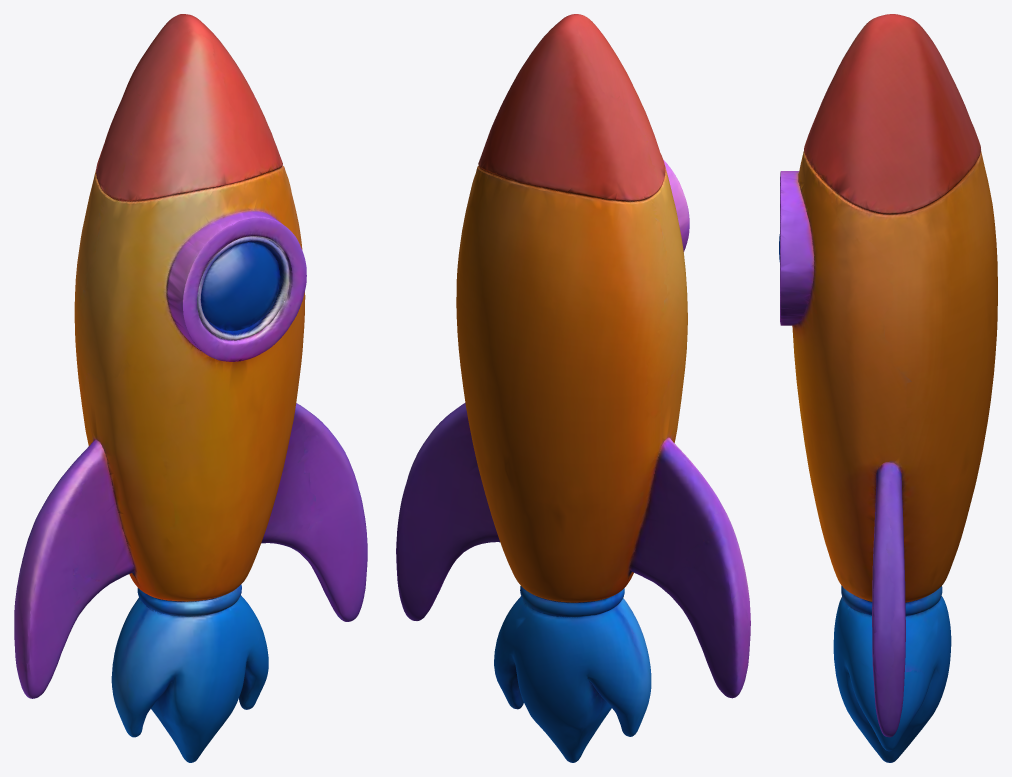
File: rocket__main__r1__p1.glb
The picture shows the model from 3 angles, left to right: view 1: azimuth 30°, elevation 25°; view 2: azimuth 150°, elevation 25°; view 3: azimuth 270°, elevation 25°; orthographic projection.
Parts seen in each view (by area): view 1: model; view 2: model; view 3: model.
Boxes of the visible parts, bbox=[...] form: model: bbox=[14, 14, 367, 762]; model: bbox=[396, 14, 750, 762]; model: bbox=[779, 14, 997, 762].
Size of the model in its own units: 0.8812 by 1.83 by 0.4845.
1 material, 1 textured.
